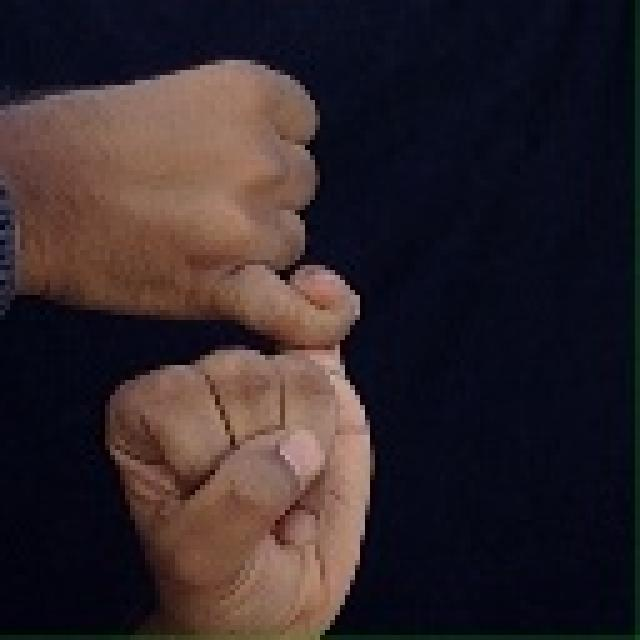Alphabet-S: (1, 40, 392, 639)
